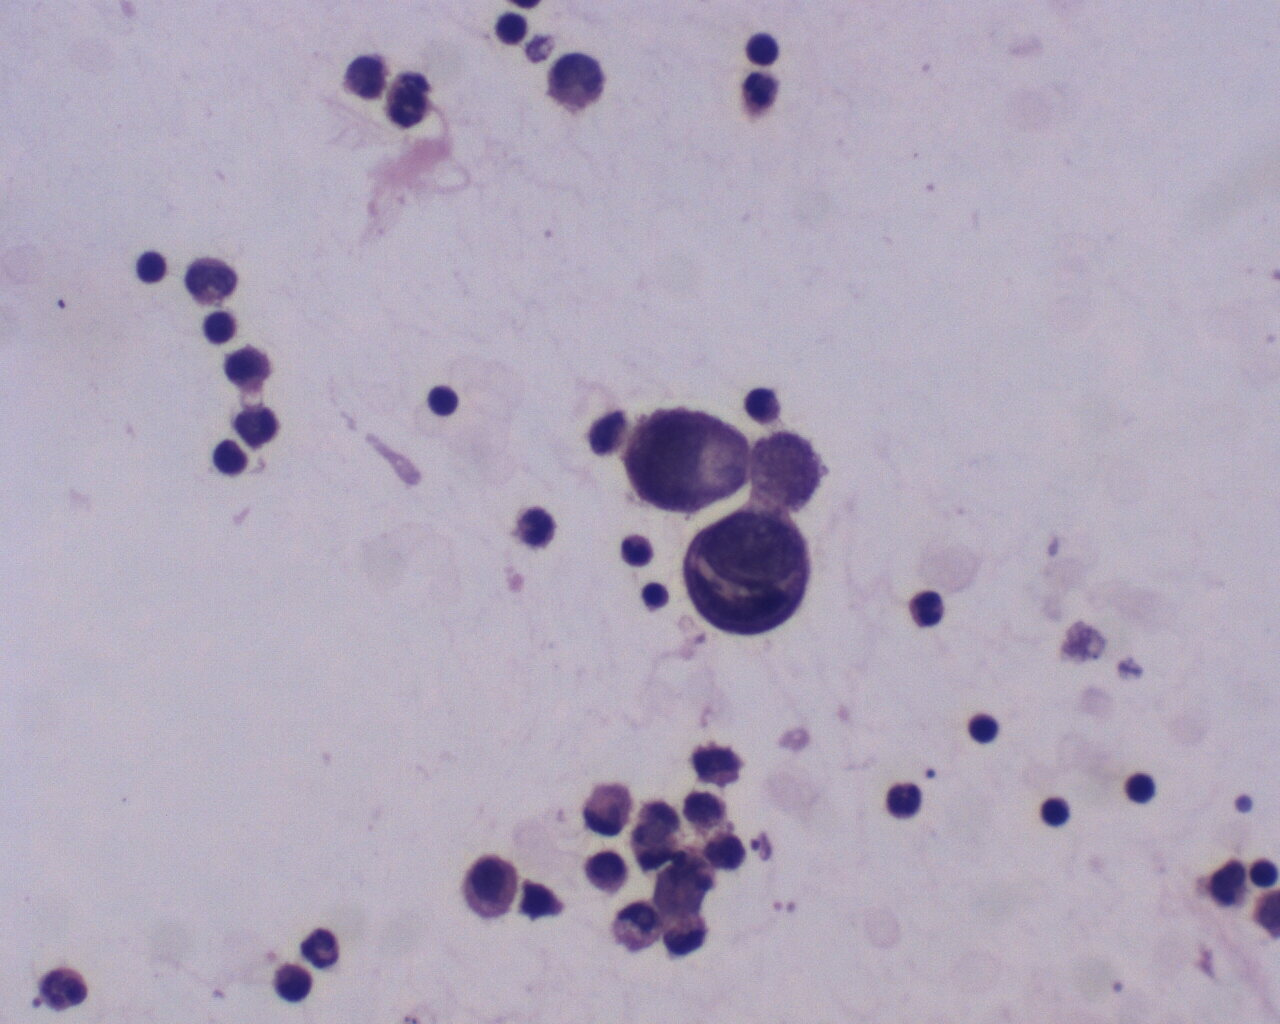ab: (682, 509, 815, 642), (622, 399, 753, 518)
lymph: (422, 376, 467, 426), (491, 10, 539, 50), (743, 29, 787, 72), (1121, 768, 1163, 812), (199, 307, 242, 348), (132, 247, 173, 288), (965, 709, 1001, 748), (639, 580, 675, 616), (1039, 793, 1074, 829)
meso: (458, 850, 523, 924)
neutro: (900, 581, 954, 638), (39, 961, 92, 1015), (297, 923, 349, 972), (512, 503, 566, 549), (885, 774, 928, 821), (619, 532, 657, 571)
